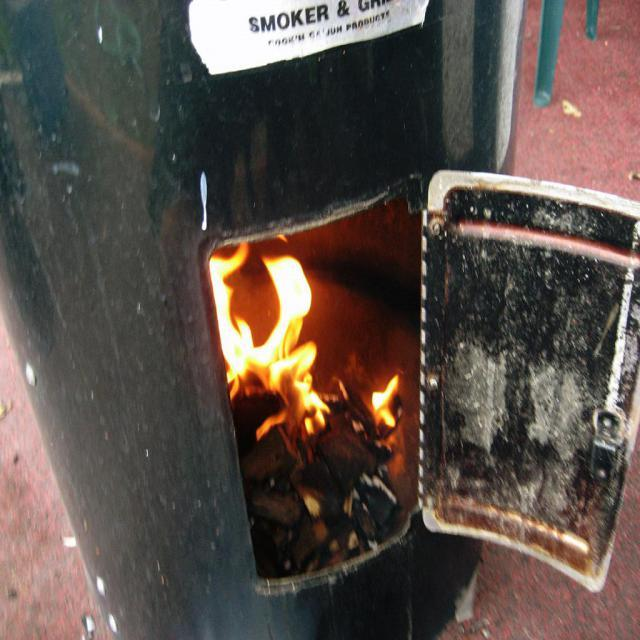Fire: (210, 223, 406, 447)
